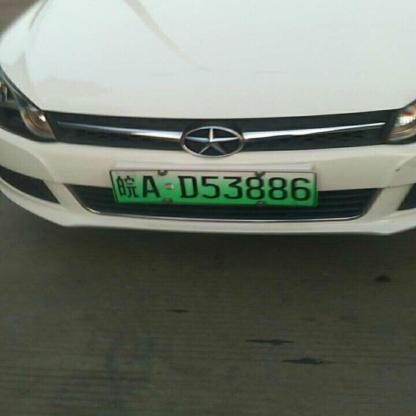lp: (110, 169, 315, 204)
